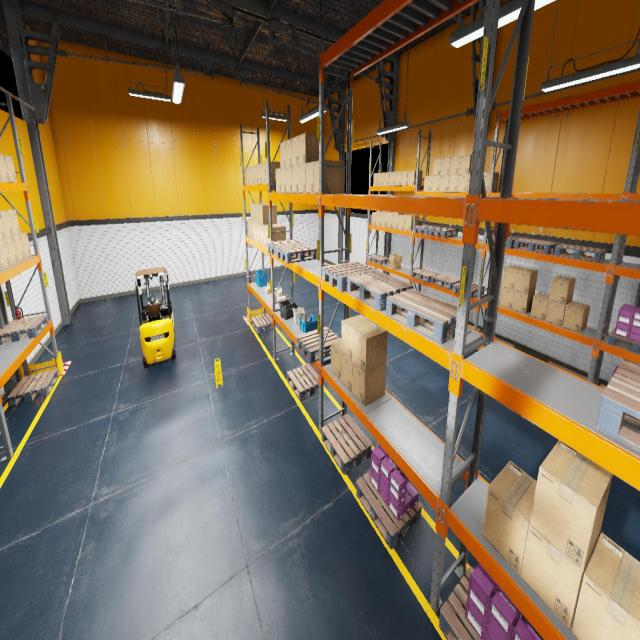box: (530, 440, 613, 572), (520, 524, 598, 630), (571, 532, 640, 640), (482, 460, 537, 576), (352, 322, 388, 373), (352, 362, 386, 407), (341, 314, 372, 361), (314, 160, 344, 193), (298, 133, 325, 164), (563, 301, 590, 332), (549, 275, 575, 304), (546, 300, 571, 326), (514, 268, 538, 293), (530, 292, 550, 321), (512, 290, 535, 314), (0, 209, 20, 236), (502, 265, 523, 290), (341, 352, 352, 392), (331, 338, 341, 381), (263, 224, 281, 245), (0, 211, 13, 239), (259, 204, 277, 224), (6, 237, 18, 266), (265, 161, 280, 184), (0, 240, 11, 270), (267, 225, 286, 242), (483, 172, 499, 192), (20, 232, 32, 258), (5, 155, 16, 183), (500, 287, 514, 309), (14, 235, 25, 262), (489, 282, 502, 304), (0, 154, 10, 182), (250, 203, 265, 221), (252, 203, 266, 222), (306, 162, 314, 193), (459, 154, 472, 173), (404, 215, 419, 231), (407, 170, 422, 186), (256, 204, 268, 223), (298, 164, 306, 192), (457, 174, 469, 192), (388, 254, 402, 269), (291, 136, 298, 165), (448, 174, 459, 192), (449, 156, 460, 174), (398, 214, 410, 230), (440, 157, 450, 175), (0, 212, 6, 241), (432, 158, 442, 175), (286, 138, 292, 166), (292, 165, 298, 192), (439, 175, 449, 191), (286, 166, 292, 192), (280, 167, 286, 193), (275, 168, 281, 192), (431, 175, 440, 191), (423, 176, 432, 192), (280, 141, 285, 168), (400, 170, 408, 186), (261, 162, 266, 184), (395, 172, 401, 186), (258, 164, 262, 184), (254, 164, 258, 184), (392, 215, 398, 228), (376, 213, 382, 226), (389, 172, 395, 185), (383, 173, 389, 186), (378, 173, 384, 186), (277, 296, 286, 304), (274, 287, 282, 296), (251, 166, 255, 184), (248, 166, 252, 184), (381, 214, 387, 226), (387, 214, 392, 227), (272, 293, 280, 301), (260, 224, 263, 244), (246, 167, 249, 185), (257, 223, 260, 241), (254, 222, 257, 240), (251, 220, 254, 238), (467, 173, 470, 191), (374, 173, 378, 186), (248, 220, 251, 237), (271, 288, 279, 294), (372, 212, 376, 224), (0, 256, 3, 271), (265, 287, 270, 293), (0, 172, 2, 181)
forklift: (134, 267, 176, 367)
pallets: (356, 470, 422, 549), (594, 360, 640, 452), (386, 288, 457, 344), (438, 566, 481, 639), (322, 414, 372, 474), (347, 271, 413, 310), (7, 368, 59, 407), (322, 262, 378, 292), (296, 327, 340, 362), (0, 314, 49, 344), (287, 363, 319, 401), (554, 244, 606, 262), (607, 328, 640, 354), (276, 244, 317, 263), (548, 361, 587, 380), (514, 238, 560, 254), (267, 239, 303, 256), (452, 283, 484, 298), (487, 236, 525, 248), (431, 274, 460, 289), (251, 314, 272, 333), (412, 268, 439, 282), (428, 227, 458, 238), (413, 224, 439, 234), (369, 255, 389, 265), (496, 337, 515, 347), (468, 324, 480, 332), (600, 384, 607, 388)
